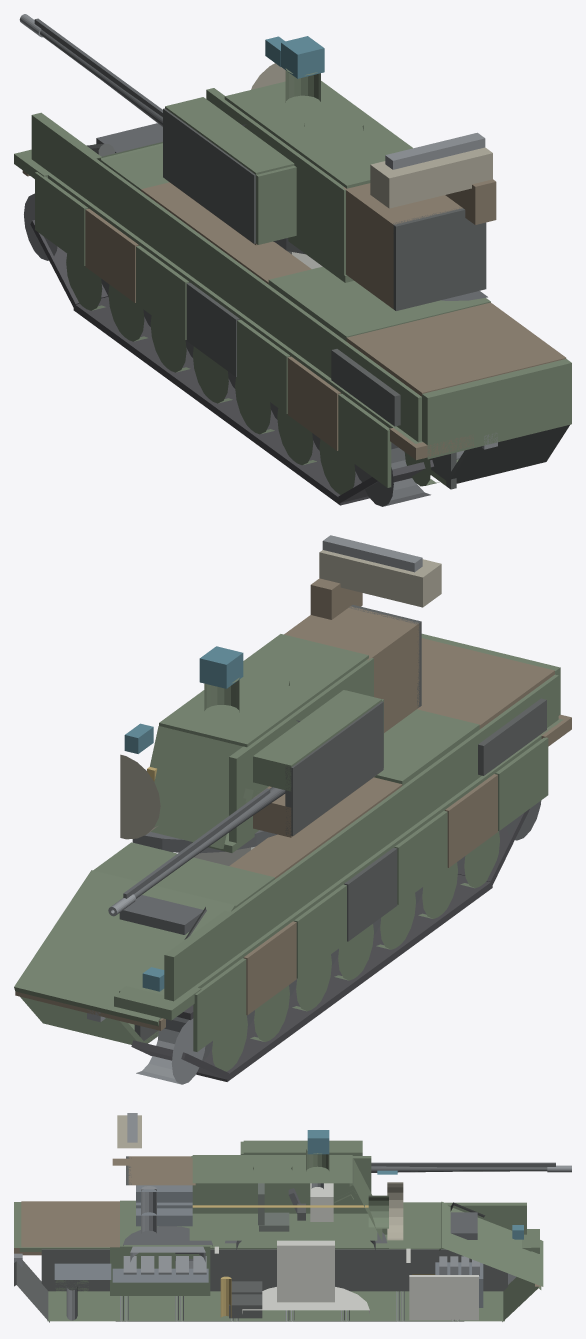
File: gepard-cutaway.glb
3 renders of one model, top to bottom at view 1: azimuth 30°, elevation 25°; view 2: azimuth 150°, elevation 25°; view 3: azimuth 270°, elevation 25°, orthographic. The views are drawn at different scales.
Parts seen in each view (by area): view 1: ext_hull_upper_sponson_port, ext_hull_engine_deck_aft, ext_hull_stern_upper, ext_turret_roof_plate, ext_turret_bustle_rear_wall, ext_kda_pod_outer_cheek_port, ext_hull_engine_deck_fwd, ext_turret_side_wall_port, ext_turret_bustle_electronics_bay, ext_track_bottom_run_port, ext_search_radar_mpdr12_antenna, ext_hull_roof_cheek_port (+33 smaller); view 2: ext_hull_upper_sponson_port, ext_hull_upper_glacis, ext_turret_roof_plate, ext_turret_glacis_nose, ext_hull_engine_deck_aft, ext_turret_bustle_electronics_bay, ext_kda_pod_outer_cheek_port, ext_track_bottom_run_port, ext_hull_roof_fwd, ext_kda_pod_upper_cowl_port, ext_hull_roof_cheek_port, ext_hull_engine_deck_fwd (+37 smaller); view 3: ext_hull_lower_tub_port, ext_hull_belly_pan, ext_hull_engine_deck_aft, ext_turret_floor_pan, ext_turret_side_wall_port, ext_turret_roof_plate, ext_hull_upper_glacis, int_aa_ammo_bin_port, int_apu_partition_wall, int_engine_saddle_fuel_tank_port, ext_hull_roof_fwd, ext_turret_bustle_electronics_bay (+39 smaller).
Boxes of the visible parts, <box> form: ext_hull_upper_sponson_port: <box>31,112,421,442</box>; ext_hull_engine_deck_aft: <box>346,302,566,396</box>; ext_hull_stern_upper: <box>422,359,571,459</box>; ext_turret_roof_plate: <box>224,81,412,188</box>; ext_turret_bustle_rear_wall: <box>393,207,486,310</box>; ext_kda_pod_outer_cheek_port: <box>163,108,255,243</box>; ext_hull_engine_deck_fwd: <box>268,266,490,341</box>; ext_turret_side_wall_port: <box>206,88,345,278</box>; ext_turret_bustle_electronics_bay: <box>343,183,462,308</box>; ext_track_bottom_run_port: <box>73,296,369,505</box>; ext_search_radar_mpdr12_antenna: <box>370,147,492,208</box>; ext_hull_roof_cheek_port: <box>141,182,311,284</box>; ext_hull_upper_sponson_port: <box>164,674,558,1001</box>; ext_hull_upper_glacis: <box>14,870,235,1026</box>; ext_turret_roof_plate: <box>159,634,368,747</box>; ext_turret_glacis_nose: <box>150,726,242,848</box>; ext_hull_engine_deck_aft: <box>417,638,554,729</box>; ext_turret_bustle_electronics_bay: <box>284,606,419,732</box>; ext_kda_pod_outer_cheek_port: <box>285,701,383,835</box>; ext_track_bottom_run_port: <box>196,874,492,1081</box>; ext_hull_roof_fwd: <box>93,842,274,907</box>; ext_kda_pod_upper_cowl_port: <box>253,690,381,791</box>; ext_hull_roof_cheek_port: <box>229,777,402,878</box>; ext_hull_engine_deck_fwd: <box>374,709,479,785</box>; ext_hull_lower_tub_port: <box>41,1249,507,1291</box>; ext_hull_belly_pan: <box>47,1291,504,1321</box>; ext_hull_engine_deck_aft: <box>21,1201,119,1247</box>; ext_turret_floor_pan: <box>189,1213,377,1240</box>; ext_turret_side_wall_port: <box>191,1156,371,1213</box>; ext_turret_roof_plate: <box>192,1155,352,1183</box>; ext_hull_upper_glacis: <box>439,1201,543,1286</box>; int_aa_ammo_bin_port: <box>277,1240,334,1302</box>; int_apu_partition_wall: <box>409,1275,478,1320</box>; int_engine_saddle_fuel_tank_port: <box>110,1246,210,1295</box>; ext_hull_roof_fwd: <box>389,1202,440,1248</box>; ext_turret_bustle_electronics_bay: <box>128,1156,195,1185</box>.
Size of the model in its own units: 1.64 by 3.21 by 7.68.
